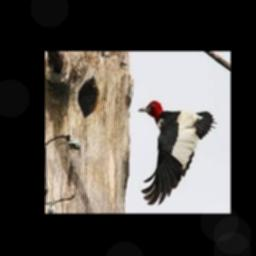Woodpecker: (139, 101, 218, 205)
